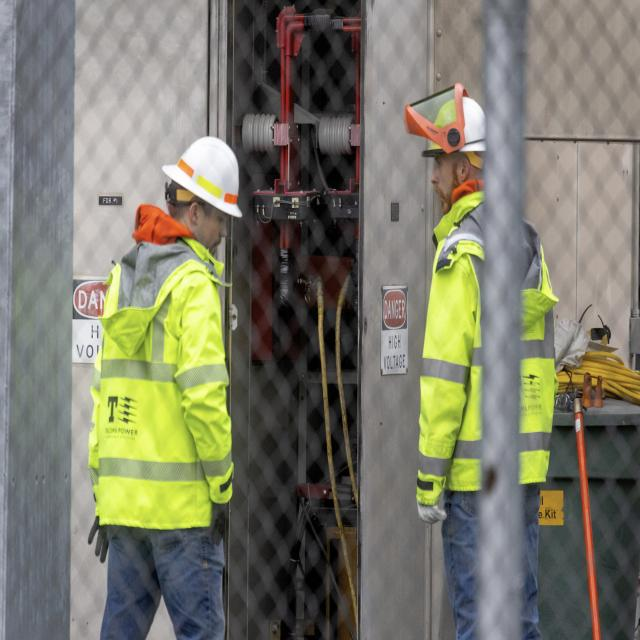helmet: (150, 124, 248, 239), (413, 85, 495, 165)
vest: (89, 220, 228, 534), (422, 197, 564, 498)
